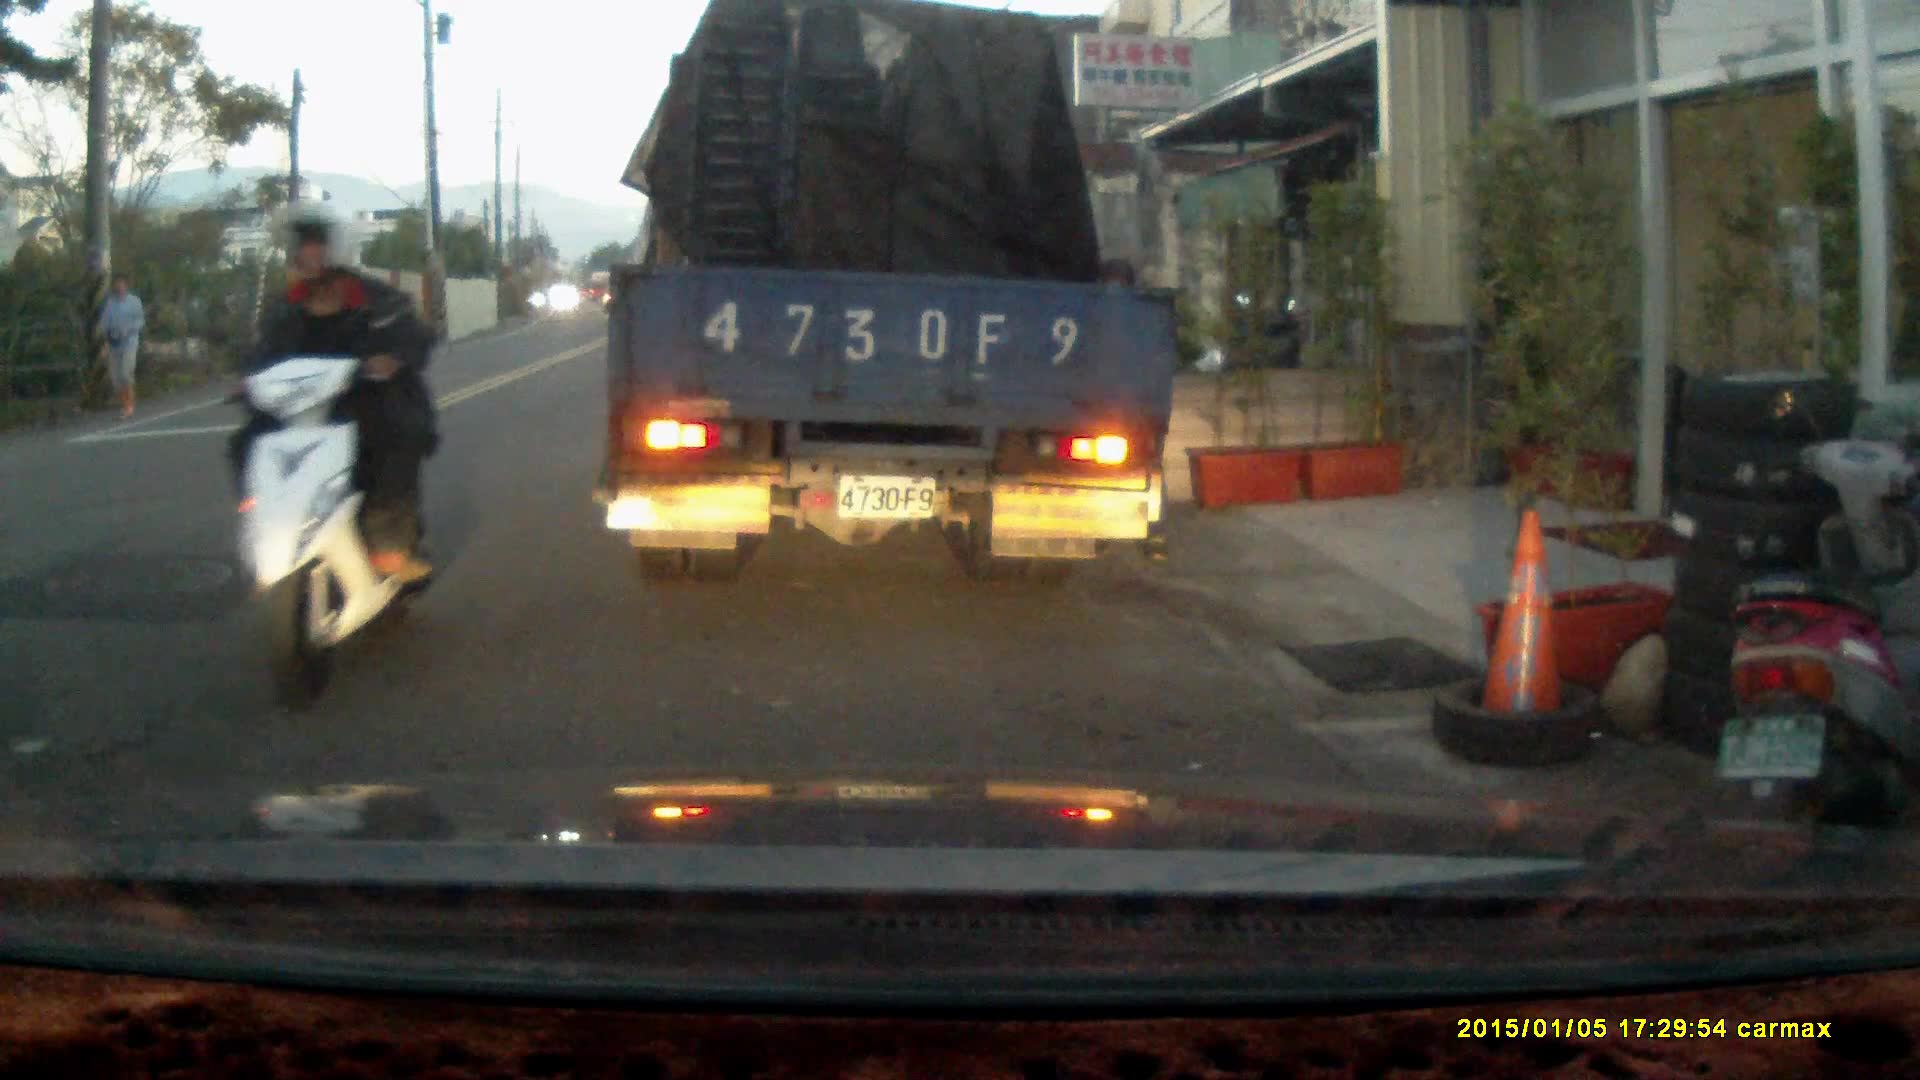pedestrian: (96, 270, 149, 420)
rider: (192, 197, 442, 718)
vehicle: (600, 23, 1187, 572)
